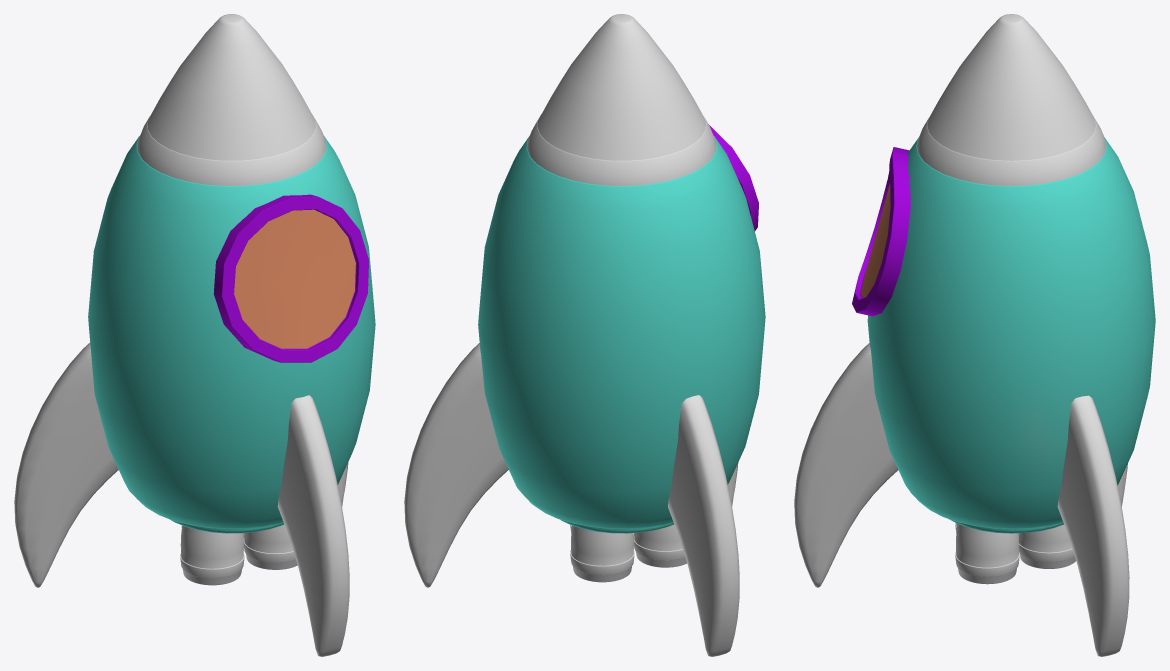
File: SimpleRocket.fbx
The picture shows the model from 3 angles, left to right: view 1: azimuth 30°, elevation 25°; view 2: azimuth 150°, elevation 25°; view 3: azimuth 270°, elevation 25°; orthographic projection.
Visible parts, largest first — view 1: Cylinder, Plane, Circle, Cylinder.002, Cylinder.001, Cylinder.004; view 2: Cylinder, Plane, Cylinder.002, Cylinder.001, Cylinder.004, Circle; view 3: Cylinder, Plane, Cylinder.002, Circle, Cylinder.001, Cylinder.004.
Part boxes in pixels (x1,y1,x2,y2): Cylinder: [88, 136, 375, 533]; Plane: [14, 342, 349, 656]; Circle: [213, 194, 368, 362]; Cylinder.002: [147, 14, 315, 160]; Cylinder.001: [137, 114, 326, 185]; Cylinder.004: [180, 524, 297, 585]; Cylinder: [478, 135, 765, 533]; Plane: [404, 343, 739, 656]; Cylinder.002: [537, 14, 705, 160]; Cylinder.001: [527, 114, 716, 185]; Cylinder.004: [570, 524, 686, 582]; Circle: [709, 125, 758, 231]; Cylinder: [867, 137, 1155, 533]; Plane: [794, 343, 1129, 656]; Cylinder.002: [927, 14, 1095, 160]; Circle: [852, 147, 910, 316]; Cylinder.001: [917, 118, 1106, 185]; Cylinder.004: [955, 523, 1075, 584].
Size of the model in its own units: 425 by 693 by 401.
